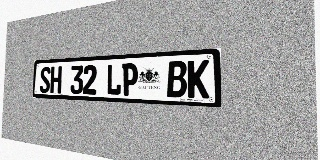2: (83, 65, 97, 95)
3: (70, 65, 83, 94)
B: (167, 61, 187, 98)
H: (50, 66, 62, 93)
K: (187, 60, 209, 98)
L: (106, 64, 122, 95)
P: (121, 63, 138, 96)
S: (39, 67, 51, 93)
